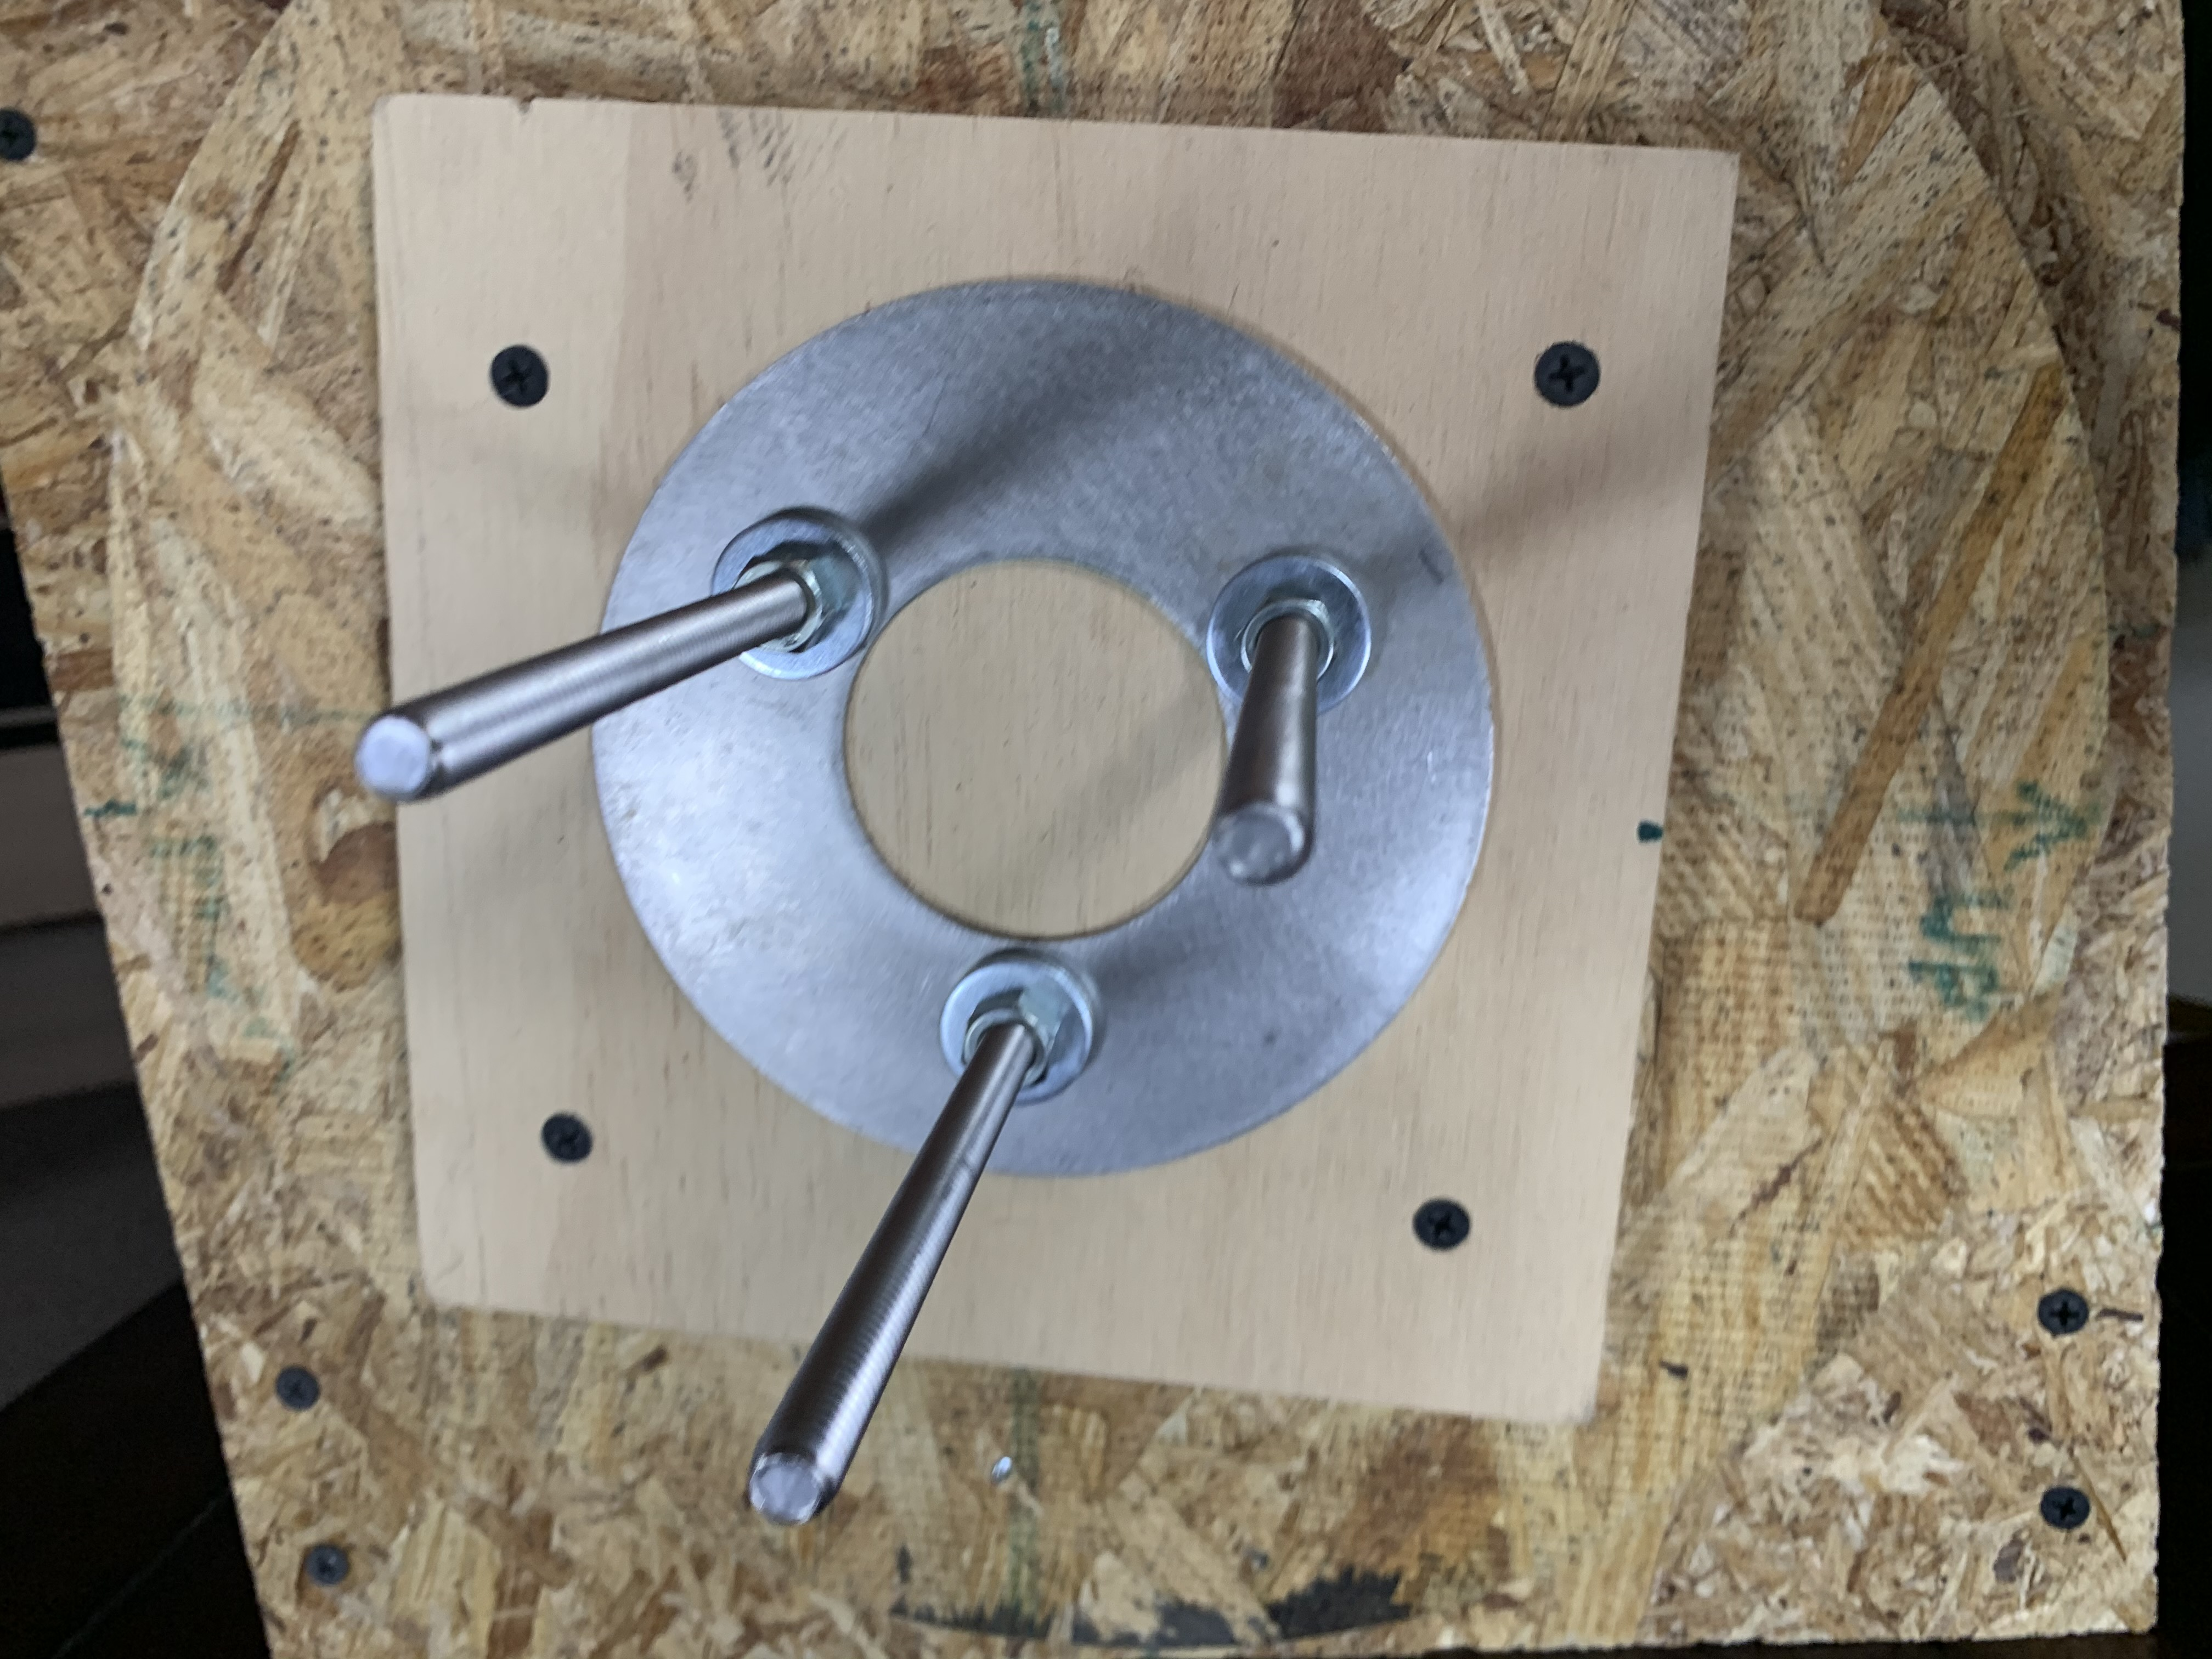bolt: (709, 509, 887, 681), (1202, 547, 1379, 716), (934, 948, 1101, 1110)
